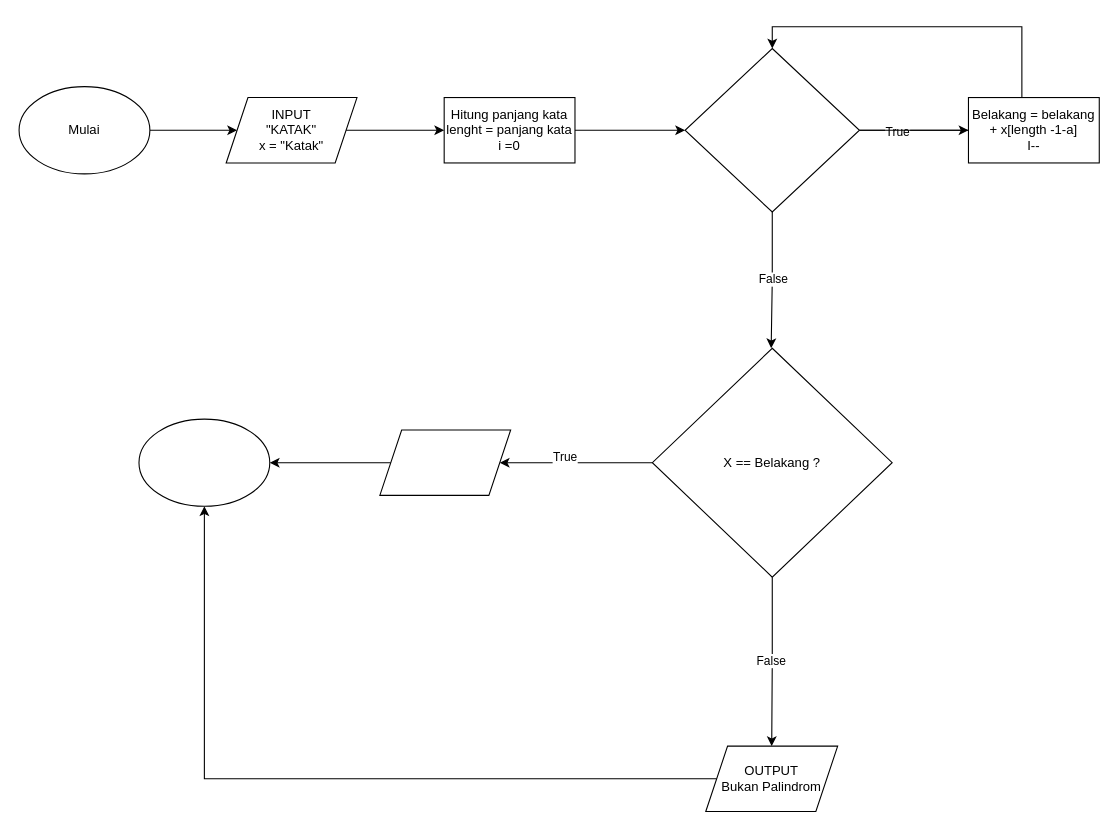
This 1118x831 diagram has some shape labels left out. The shapes that lost their labels are listed below. From the top down, each one's centre as x and y in pixels, then its label:
At point (771, 129): "if(i< length) ?".
At point (204, 462): "Selesai".
At point (445, 462): "OUTPUT Palindrom".
